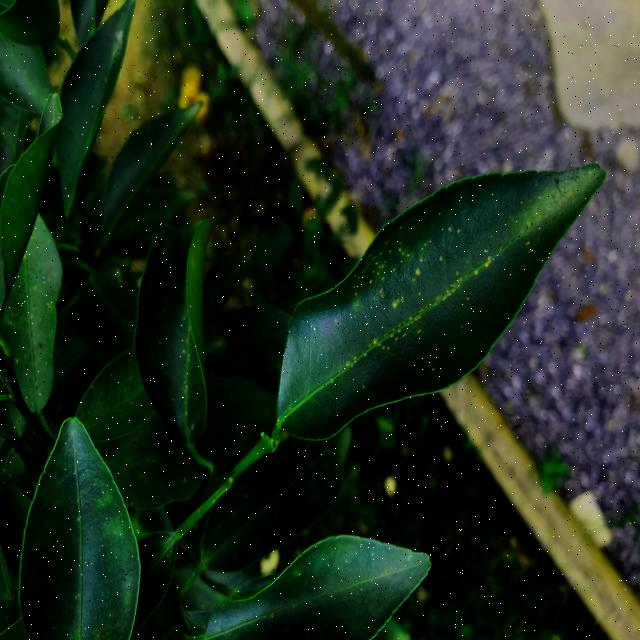canker: (324, 179, 578, 418), (36, 498, 135, 640), (219, 433, 338, 538), (0, 227, 57, 400), (146, 298, 202, 415), (115, 446, 199, 500)
